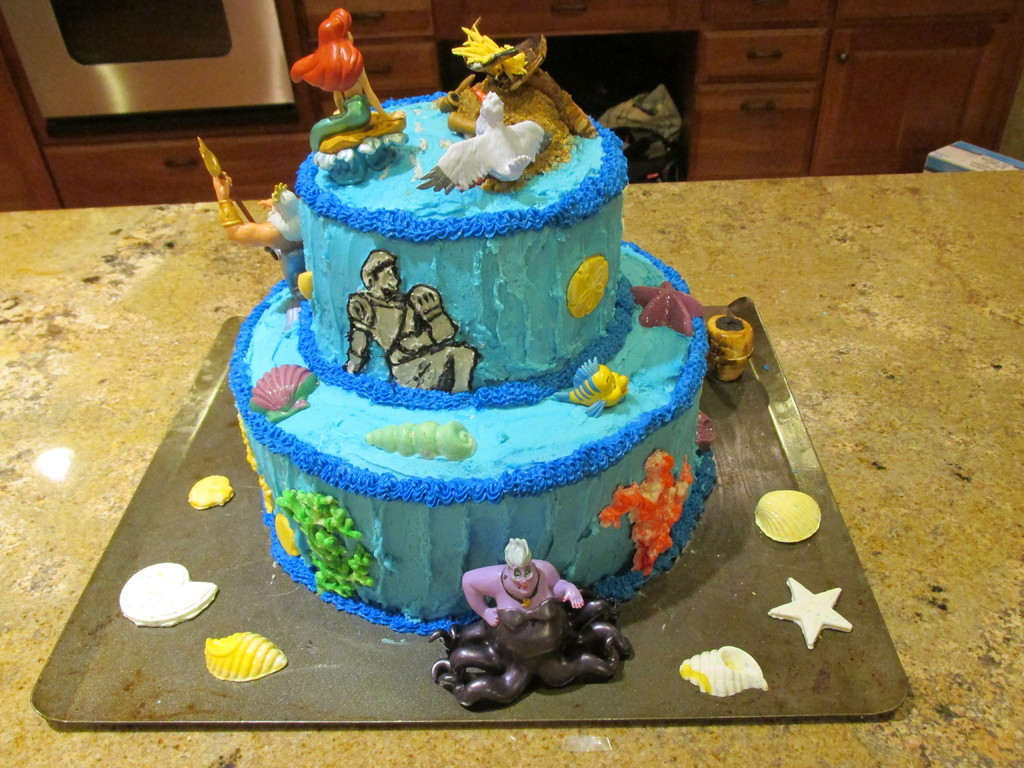cake: (195, 0, 714, 715)
